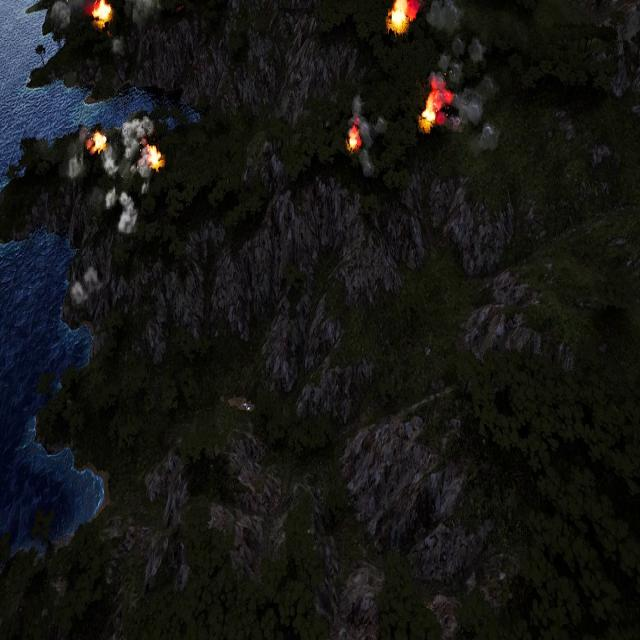fire: (420, 81, 452, 129), (388, 0, 412, 31), (91, 0, 113, 24), (89, 132, 108, 155), (146, 145, 162, 171), (347, 126, 361, 151)
smoke: (421, 2, 501, 158), (104, 112, 155, 237), (352, 91, 387, 177), (62, 124, 92, 184), (68, 262, 100, 307), (122, 0, 166, 27), (48, 0, 73, 31)
